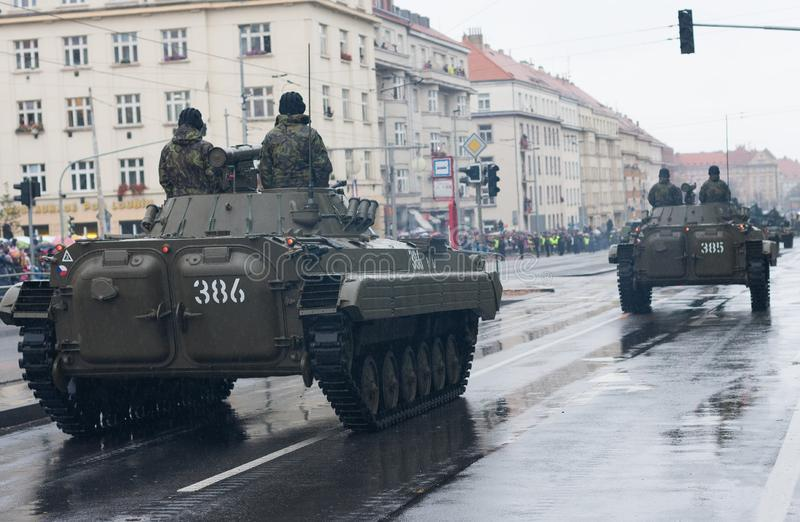bmp: (8, 166, 493, 426)
